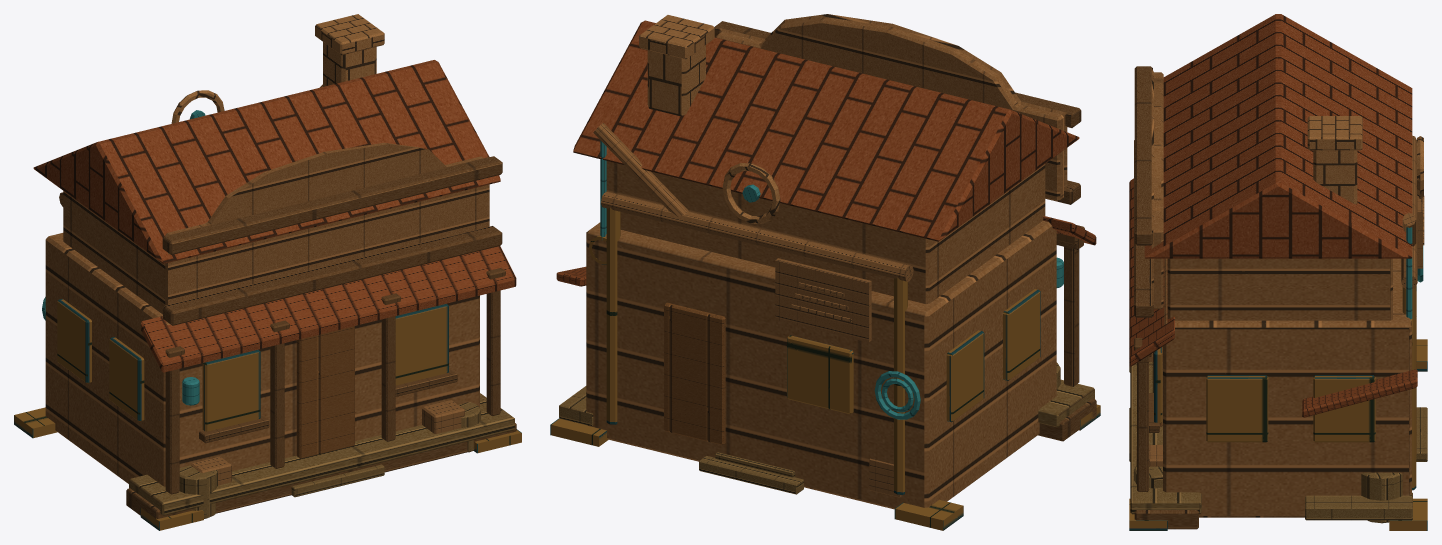
File: general-store.e5.glb
3 views of the same model, side by side, from view 1: azimuth 30°, elevation 25°; view 2: azimuth 150°, elevation 25°; view 3: azimuth 270°, elevation 25° (orthographic). The views are drawn at different scales.
Parts seen in each view (by area): view 1: GeneralStoreE5; view 2: GeneralStoreE5; view 3: GeneralStoreE5.
Part boxes in pixels (x1=…): GeneralStoreE5: x1=14, y1=14, x2=521, y2=530; GeneralStoreE5: x1=550, y1=14, x2=1100, y2=530; GeneralStoreE5: x1=1129, y1=14, x2=1427, y2=530.
Bounding box in the file's own units: 4.7 × 4.44 × 3.26.
Materials: 1 (1 with a texture image).
